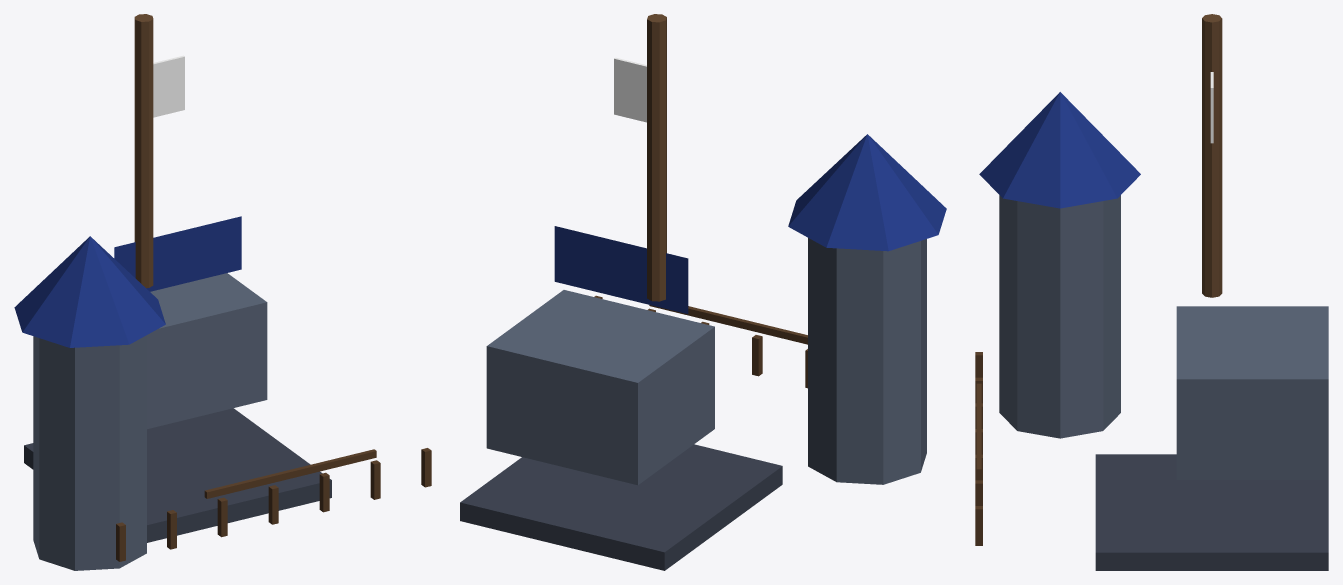
File: vanguard_barracks.glb
The picture shows the model from 3 angles, left to right: view 1: azimuth 30°, elevation 25°; view 2: azimuth 150°, elevation 25°; view 3: azimuth 270°, elevation 25°; orthographic projection. The views are drawn at different scales.
Parts seen in each view (by area): view 1: vanguard_barracks; view 2: vanguard_barracks; view 3: vanguard_barracks.
Boxes of the visible parts, x1=… form: vanguard_barracks: x1=14, y1=14, x2=431, y2=570; vanguard_barracks: x1=460, y1=14, x2=946, y2=570; vanguard_barracks: x1=975, y1=14, x2=1328, y2=570.
Size of the model in its own units: 43.38 by 53 by 34.88.
